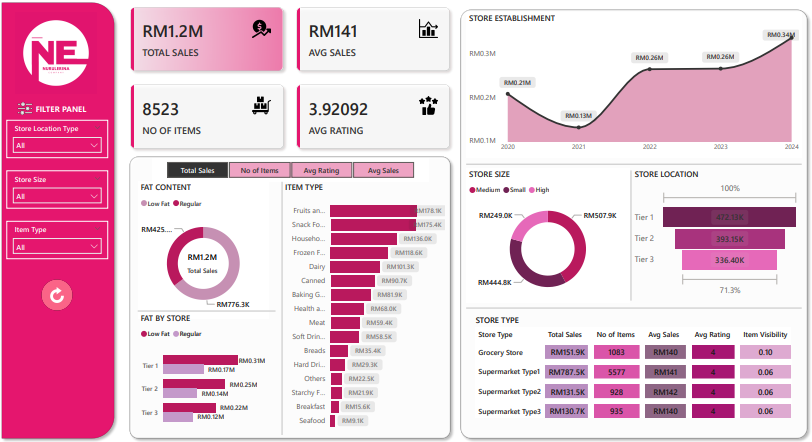

Layout of this report page (visuals, bound fields, positions):
{"tool":"powerbi","page":{"name":"Page 1","canvas":[1400,800],"ordinal":0},"visuals":[{"type":"shape","box":[12.8,24,204.8,750.4],"z":0},{"type":"cardVisual","fields":{"Data":["BlinkIT Grocery Data.Total Sales","BlinkIT Grocery Data.Avg Sales","BlinkIT Grocery Data.No of Items","BlinkIT Grocery Data.Avg Rating"]},"box":[220.8,24,571.2,270.4],"z":2000},{"type":"shape","box":[228.8,283.2,555.2,491.2],"z":3000},{"type":"donutChart","title":"FAT CONTENT","fields":{"Y":["BlinkIT Grocery Data.Total Sales"],"Category":["BlinkIT Grocery Data.Item Fat Content"]},"box":[249.6,334.4,220.8,230.4],"z":4000},{"type":"slicer","fields":{"Values":["Metrics.Metrics"]},"box":[273.6,294.4,465.6,40],"z":5000},{"type":"cardVisual","fields":{"Data":["BlinkIT Grocery Data.Total Sales"]},"box":[307.2,432,104,78.4],"z":6000},{"type":"clusteredBarChart","title":"FAT BY STORE","fields":{"Y":["BlinkIT Grocery Data.Total Sales"],"Category":["BlinkIT Grocery Data.Store Location Type"],"Series":["BlinkIT Grocery Data.Item Fat Content"]},"box":[249.6,553.6,220.8,206.4],"z":7000},{"type":"shape","box":[249.6,537.6,232,27.2],"z":8000},{"type":"shape","box":[481.6,334.4,22.4,425.6],"z":9000},{"type":"barChart","title":"ITEM TYPE","fields":{"Y":["BlinkIT Grocery Data.Total Sales"],"Category":["BlinkIT Grocery Data.Item Type"]},"box":[492.8,334.4,278.4,425.6],"z":10000},{"type":"shape","box":[785.6,36.8,600,737.6],"z":11000},{"type":"lineChart","title":"STORE ESTABLISHMENT","fields":{"Y":["BlinkIT Grocery Data.Total Sales"],"Category":["BlinkIT Grocery Data.Store Establishment Year"]},"box":[803.2,49.6,564.8,244.8],"z":12000},{"type":"shape","box":[803.2,294.4,564.8,20.8],"z":13000},{"type":"donutChart","title":"STORE SIZE","fields":{"Y":["BlinkIT Grocery Data.Total Sales"],"Category":["BlinkIT Grocery Data.Store Size"]},"box":[803.2,312,275.2,225.6],"z":14000},{"type":"shape","box":[1075.2,315.2,11.2,219.2],"z":15000},{"type":"funnel","title":"STORE LOCATION","fields":{"Y":["Sum(BlinkIT Grocery Data.Sales)"],"Category":["BlinkIT Grocery Data.Store Location Type"]},"box":[1081.6,312,286.4,217.6],"z":16000},{"type":"shape","box":[803.2,536,564.8,20.8],"z":17000},{"type":"pivotTable","title":"STORE TYPE","fields":{"Rows":["BlinkIT Grocery Data.Store Type"],"Values":["BlinkIT Grocery Data.Total Sales","BlinkIT Grocery Data.No of Items","BlinkIT Grocery Data.Avg Sales","BlinkIT Grocery Data.Avg Rating","Avg(BlinkIT Grocery Data.Item Visibility)"]},"box":[814.4,556.8,542.4,190.4],"z":18000},{"type":"slicer","fields":{"Values":["BlinkIT Grocery Data.Store Location Type"]},"box":[28.8,230.4,171.2,64],"z":19000},{"type":"slicer","fields":{"Values":["BlinkIT Grocery Data.Store Size"]},"box":[28.8,315.2,171.2,64],"z":20000},{"type":"slicer","fields":{"Values":["BlinkIT Grocery Data.Item Type"]},"box":[28.8,400,171.2,64],"z":21000},{"type":"textbox","box":[68.8,198.4,104.7,32],"z":22000},{"type":"image","box":[41.6,192,36.8,38.4],"z":23000},{"type":"image","box":[83.3,490,61.7,66.7],"z":24000},{"type":"image","box":[40,36.8,145.6,161.6],"z":24001}]}

Visuals, with their boxes on the page's 1400x800 design canvas (x1, y1, x2, y2). These are canvas units, not pixel positions in the 812x442 screenshot, which may show the page scaled, cropped or inside an application window:
shape: 13:24:218:774
cardVisual - BlinkIT Grocery Data.Total Sales x BlinkIT Grocery Data.Avg Sales: 221:24:792:294
shape: 229:283:784:774
"FAT CONTENT" donutChart: 250:334:470:565
slicer - Metrics.Metrics: 274:294:739:334
cardVisual - BlinkIT Grocery Data.Total Sales: 307:432:411:510
"FAT BY STORE" clusteredBarChart: 250:554:470:760
shape: 250:538:482:565
shape: 482:334:504:760
"ITEM TYPE" barChart: 493:334:771:760
shape: 786:37:1386:774
"STORE ESTABLISHMENT" lineChart: 803:50:1368:294
shape: 803:294:1368:315
"STORE SIZE" donutChart: 803:312:1078:538
shape: 1075:315:1086:534
"STORE LOCATION" funnel: 1082:312:1368:530
shape: 803:536:1368:557
"STORE TYPE" pivotTable: 814:557:1357:747
slicer - BlinkIT Grocery Data.Store Location Type: 29:230:200:294
slicer - BlinkIT Grocery Data.Store Size: 29:315:200:379
slicer - BlinkIT Grocery Data.Item Type: 29:400:200:464
textbox: 69:198:174:230
image: 42:192:78:230
image: 83:490:145:557
image: 40:37:186:198
